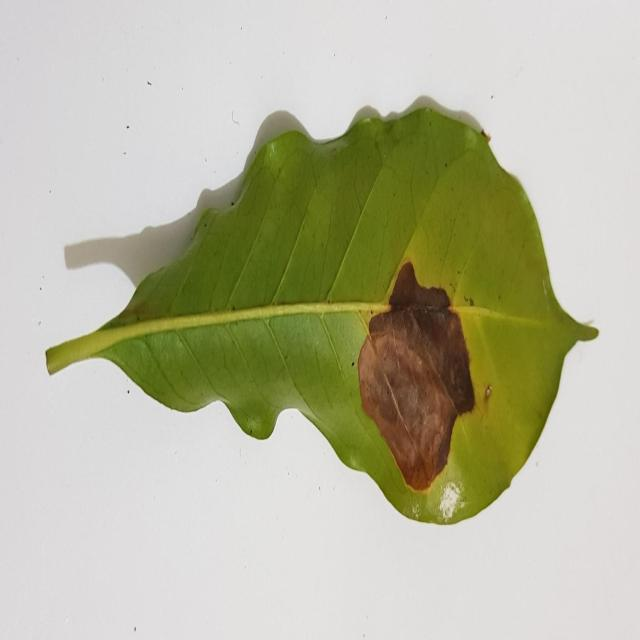miner: (358, 261, 475, 490)
